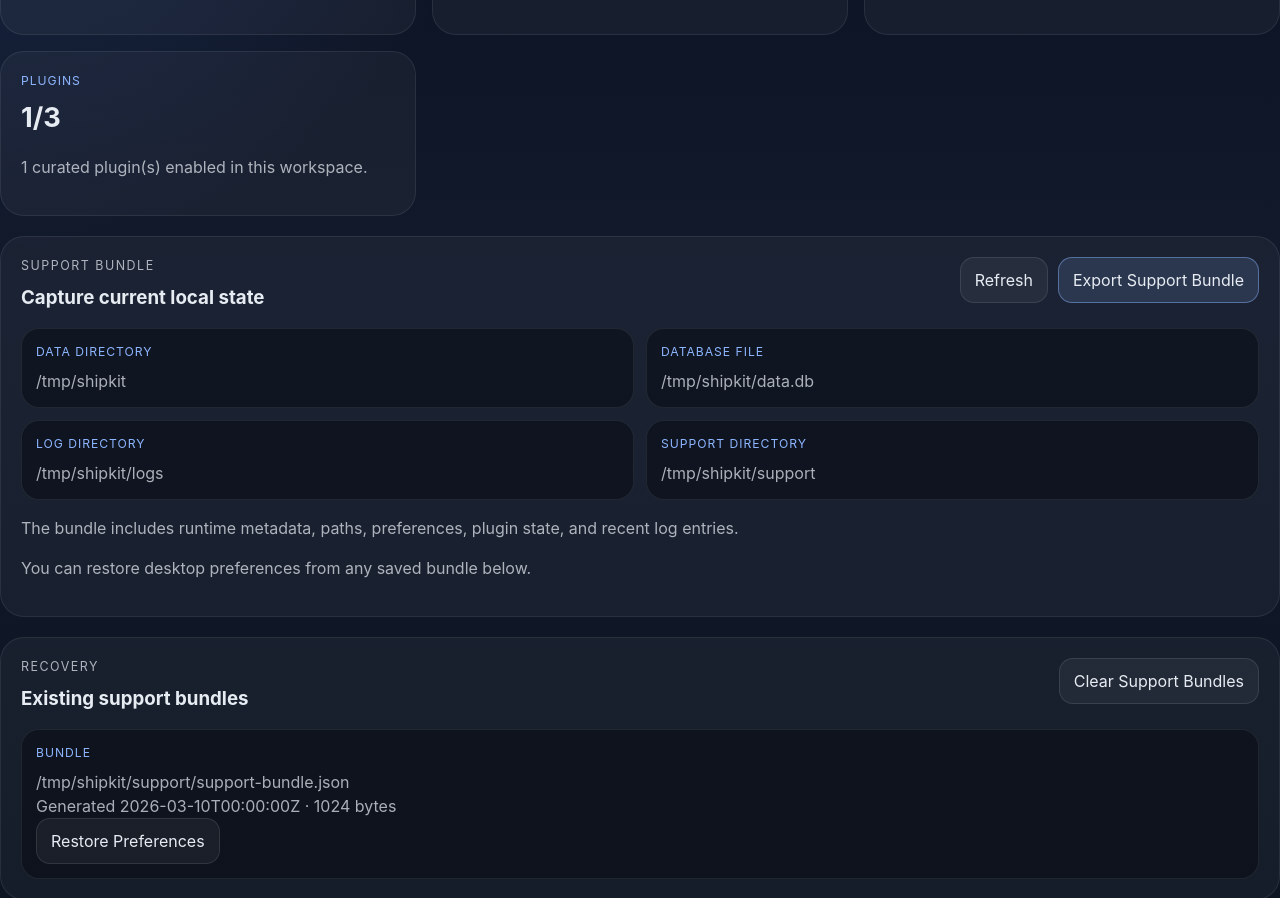
DiagnosticsPanel › loads support bundle history and clears bundles
(page scrolled)
Expected: the text "/tmp/shipkit/support/support-bundle.json" is shown, [36,772,350,792]
Click the button "Clear Support Bundles": (1159, 681) [1059,658,1259,704]
(page scrolled)
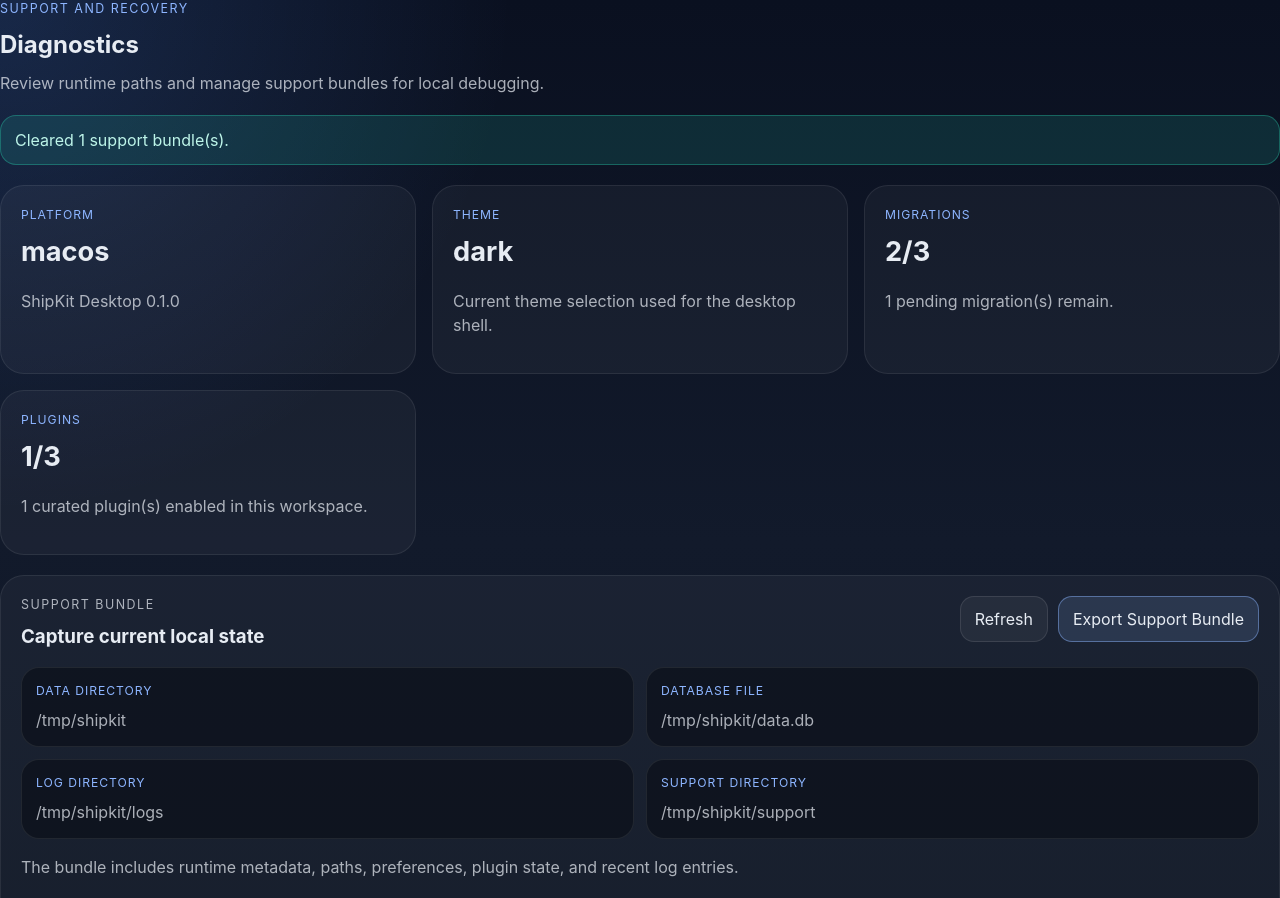
Now the text "Cleared 1 support bundle(s)." is shown, box [0,115,1279,165]
